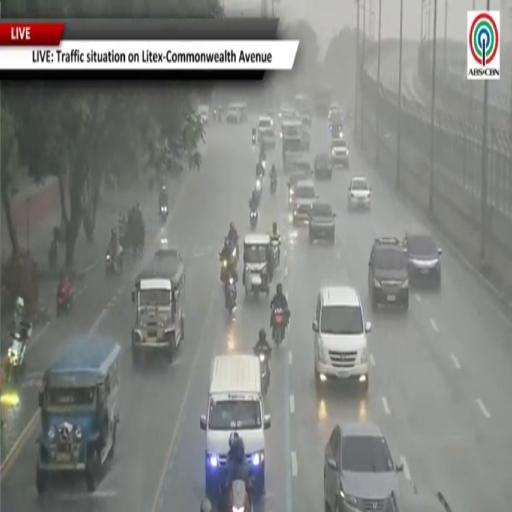car: (200, 355, 270, 503), (324, 422, 404, 511), (312, 286, 371, 392), (369, 237, 408, 310), (404, 233, 441, 289), (390, 485, 452, 511), (292, 180, 317, 226), (309, 202, 335, 243), (288, 168, 311, 207), (348, 176, 371, 209), (330, 138, 349, 168), (314, 154, 332, 180), (227, 103, 248, 123), (330, 114, 343, 138), (279, 106, 299, 121), (226, 105, 241, 123), (328, 103, 341, 121), (198, 105, 209, 124)
jeepney: (36, 340, 120, 494), (132, 249, 185, 364), (243, 234, 270, 296), (281, 119, 310, 151), (282, 136, 303, 172), (257, 116, 276, 149), (294, 94, 312, 126)
motorcycle: (6, 323, 32, 382), (227, 480, 252, 511), (254, 347, 270, 395), (57, 282, 74, 315), (273, 309, 286, 348), (105, 249, 123, 276), (220, 255, 235, 283), (225, 278, 236, 313), (48, 237, 58, 269), (271, 240, 279, 268), (255, 178, 262, 201), (159, 205, 168, 222), (250, 211, 258, 229), (270, 176, 276, 195), (252, 133, 256, 145)
